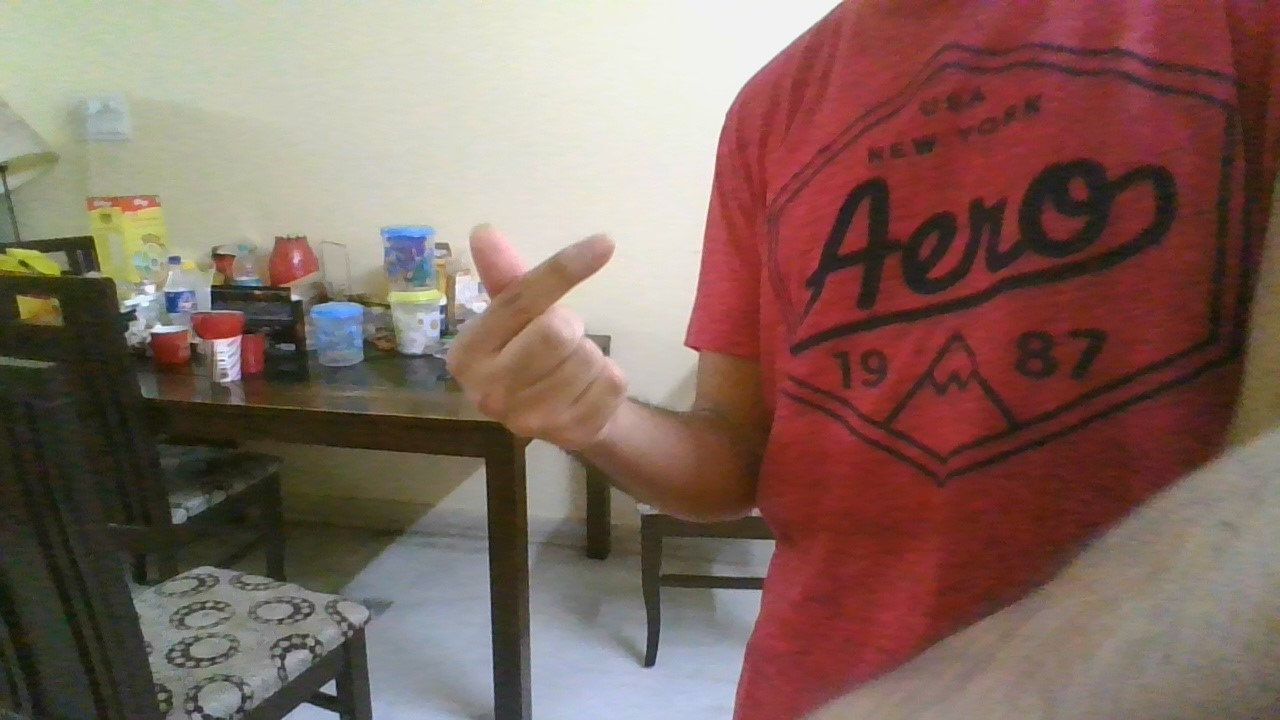eof: (443, 222, 640, 455)
